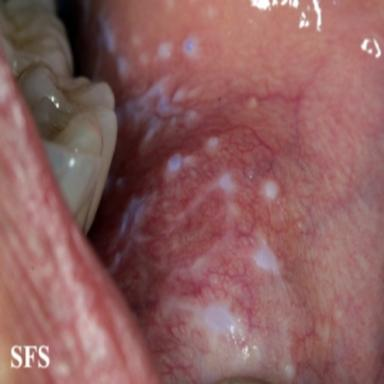lichen: (95, 4, 309, 384)
